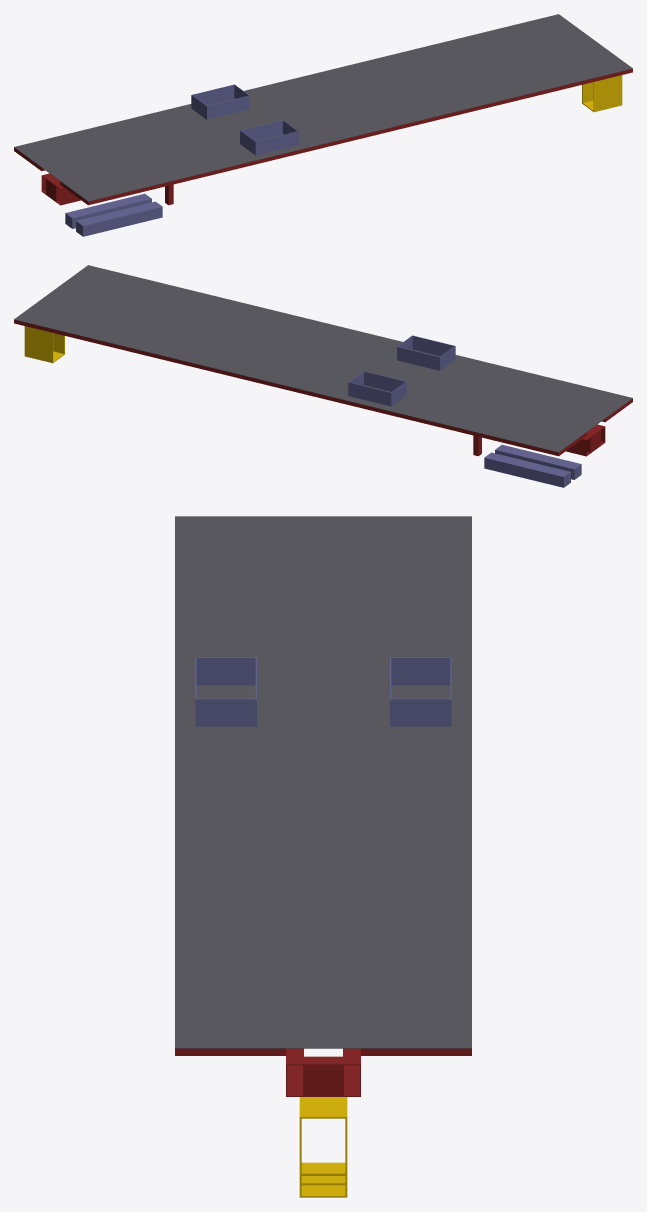
The model's file is PF-L110_loco_frame_only.glb.
The picture shows the model from 3 angles, top to bottom: view 1: azimuth 30°, elevation 25°; view 2: azimuth 150°, elevation 25°; view 3: azimuth 270°, elevation 25°; orthographic projection. The views are drawn at different scales.
Visible parts, largest first — view 1: 029 running board - deck PL6 tread plate (top Z1,605, LT11), 028 running-board edge angle L3x3x1-4, 036 pony ballast 0.625 t per side (steel plates on the sprun, 033 ballast pocket PL12 + shear lugs (750 kg max each side), 034 ballast pocket PL12 + shear lugs (750 kg max each side), 030 loco rear drop drawbar box PL16, 035 pony ballast 0.625 t per side (steel plates on the sprun; view 2: 029 running board - deck PL6 tread plate (top Z1,605, LT11), 027 running-board edge angle L3x3x1-4, 035 pony ballast 0.625 t per side (steel plates on the sprun, 034 ballast pocket PL12 + shear lugs (750 kg max each side), 033 ballast pocket PL12 + shear lugs (750 kg max each side), 030 loco rear drop drawbar box PL16, 036 pony ballast 0.625 t per side (steel plates on the sprun; view 3: 029 running board - deck PL6 tread plate (top Z1,605, LT11), 033 ballast pocket PL12 + shear lugs (750 kg max each side), 034 ballast pocket PL12 + shear lugs (750 kg max each side), 030 loco rear drop drawbar box PL16, 003 rear end sill HSS12x6x3-8.
Boxes of the visible parts, bbox=[...] form: 029 running board - deck PL6 tread plate (top Z1,605, LT11): bbox=[14, 14, 632, 201]; 028 running-board edge angle L3x3x1-4: bbox=[87, 69, 632, 205]; 036 pony ballast 0.625 t per side (steel plates on the sprun: bbox=[76, 201, 162, 236]; 033 ballast pocket PL12 + shear lugs (750 kg max each side): bbox=[191, 84, 249, 119]; 034 ballast pocket PL12 + shear lugs (750 kg max each side): bbox=[240, 120, 298, 155]; 030 loco rear drop drawbar box PL16: bbox=[582, 75, 622, 112]; 035 pony ballast 0.625 t per side (steel plates on the sprun: bbox=[65, 193, 151, 228]; 029 running board - deck PL6 tread plate (top Z1,605, LT11): bbox=[14, 265, 632, 452]; 027 running-board edge angle L3x3x1-4: bbox=[14, 320, 559, 456]; 035 pony ballast 0.625 t per side (steel plates on the sprun: bbox=[484, 452, 570, 487]; 034 ballast pocket PL12 + shear lugs (750 kg max each side): bbox=[397, 335, 455, 370]; 033 ballast pocket PL12 + shear lugs (750 kg max each side): bbox=[348, 371, 406, 406]; 030 loco rear drop drawbar box PL16: bbox=[24, 326, 64, 363]; 036 pony ballast 0.625 t per side (steel plates on the sprun: bbox=[495, 444, 581, 479]; 029 running board - deck PL6 tread plate (top Z1,605, LT11): bbox=[175, 516, 471, 1048]; 033 ballast pocket PL12 + shear lugs (750 kg max each side): bbox=[390, 657, 451, 726]; 034 ballast pocket PL12 + shear lugs (750 kg max each side): bbox=[195, 657, 256, 726]; 030 loco rear drop drawbar box PL16: bbox=[299, 1097, 347, 1197]; 003 rear end sill HSS12x6x3-8: bbox=[304, 1056, 342, 1096].
Bounding box in the file's own units: 11000 × 1459 × 2500.
